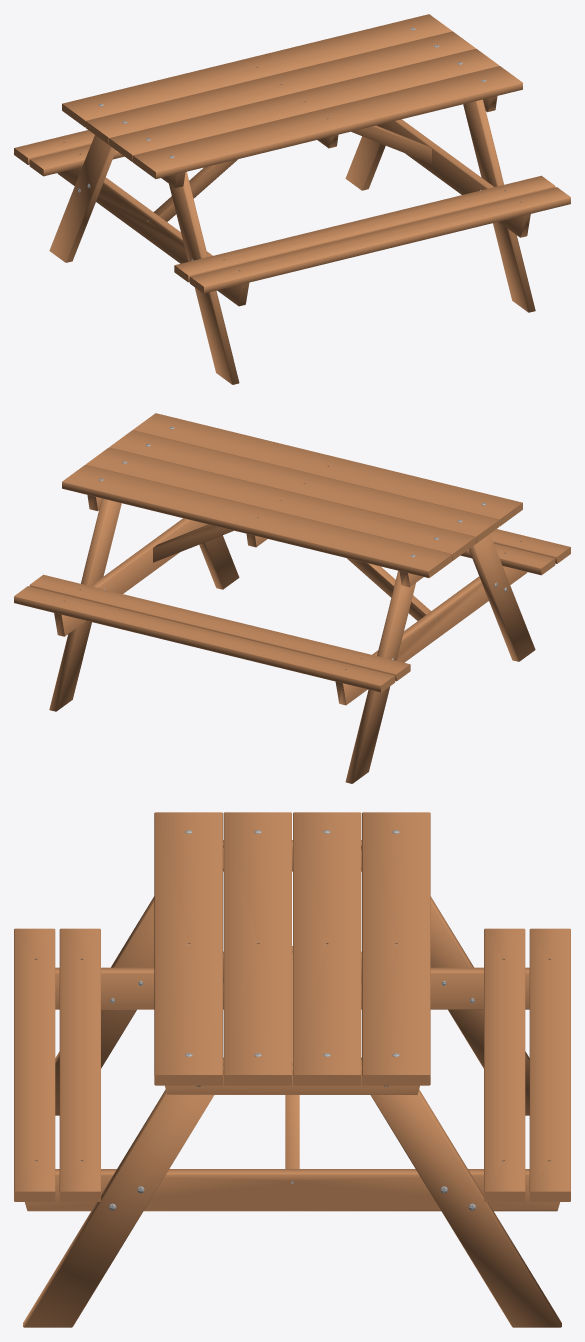
The model's file is tablegarden.FBX.
3 renders of one model, top to bottom at view 1: azimuth 30°, elevation 25°; view 2: azimuth 150°, elevation 25°; view 3: azimuth 270°, elevation 25°, orthographic. The views are drawn at different scales.
Visible parts, largest first — view 1: table02; view 2: table02; view 3: table02.
Part boxes in pixels (x1,y1,x2,y2): table02: [14, 14, 570, 384]; table02: [14, 413, 570, 783]; table02: [14, 812, 570, 1327].
Bounding box in the file's own units: 1.5 × 1.34 × 0.7363.
